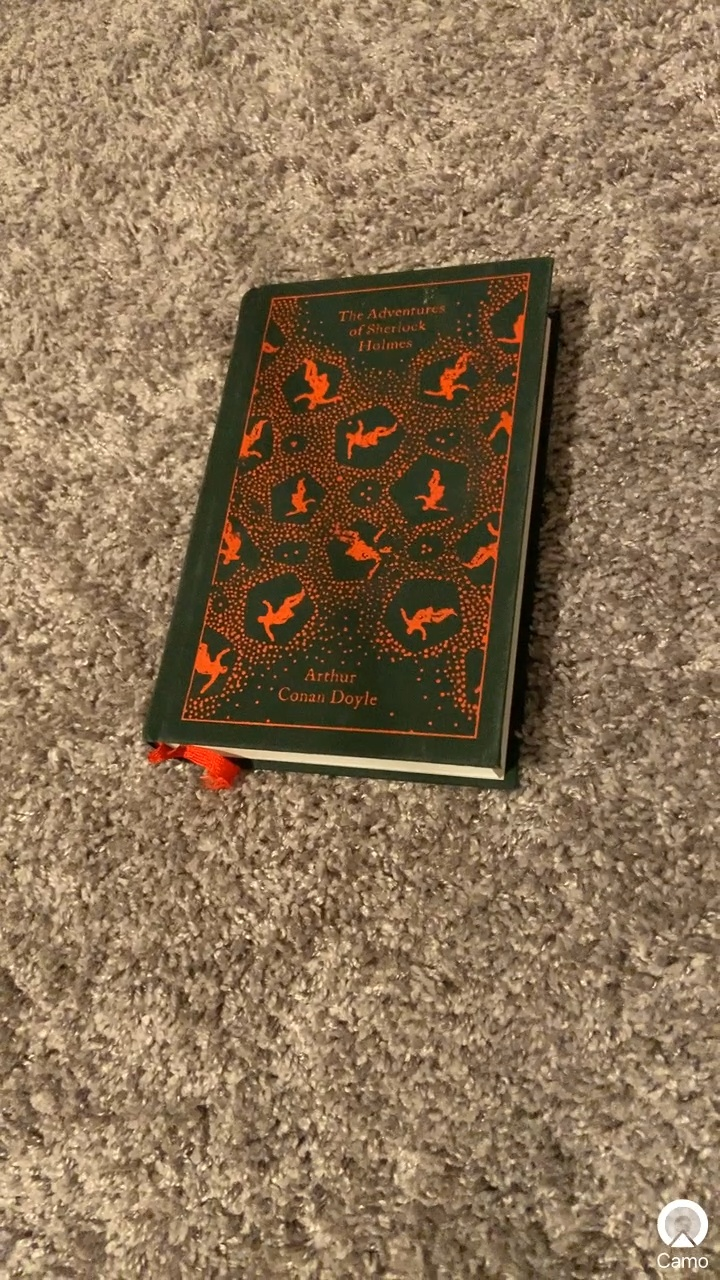Book: (131, 255, 595, 816)
